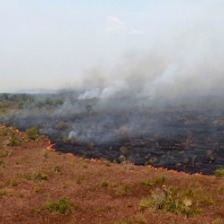incendio: (1, 87, 220, 193)
